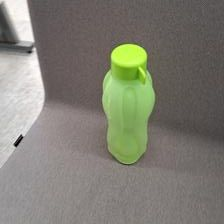bottle: (101, 45, 157, 165)
